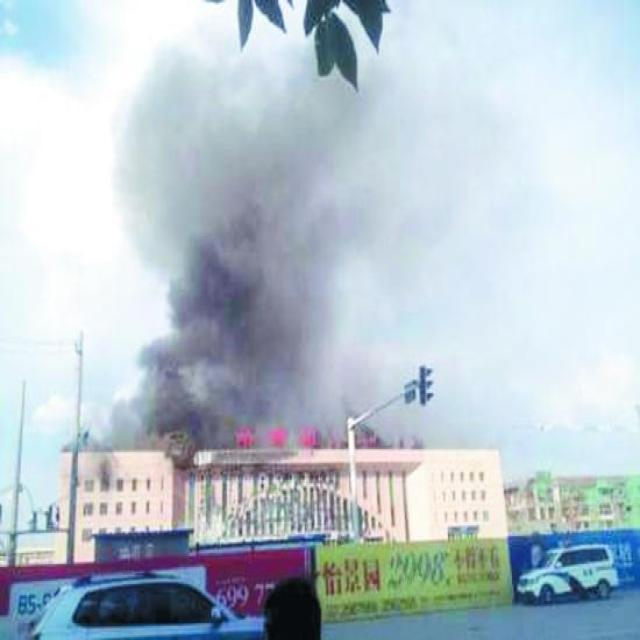Smoke: (90, 48, 345, 426)
